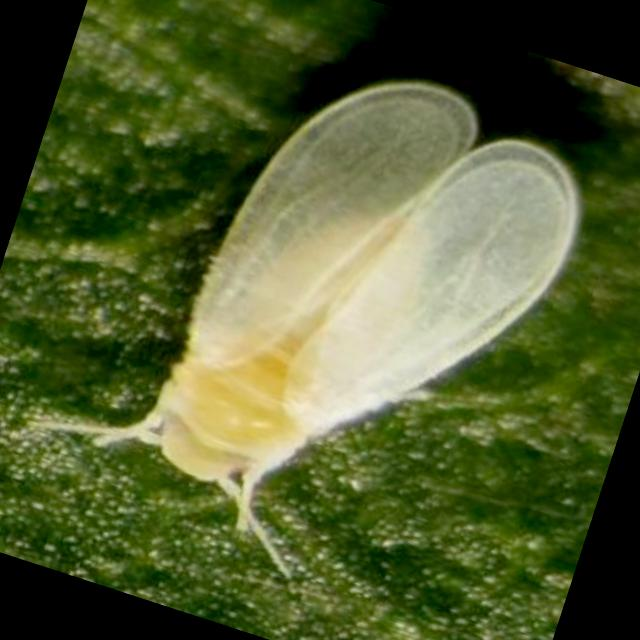Silverleaf whitefly: (2, 0, 619, 640)
